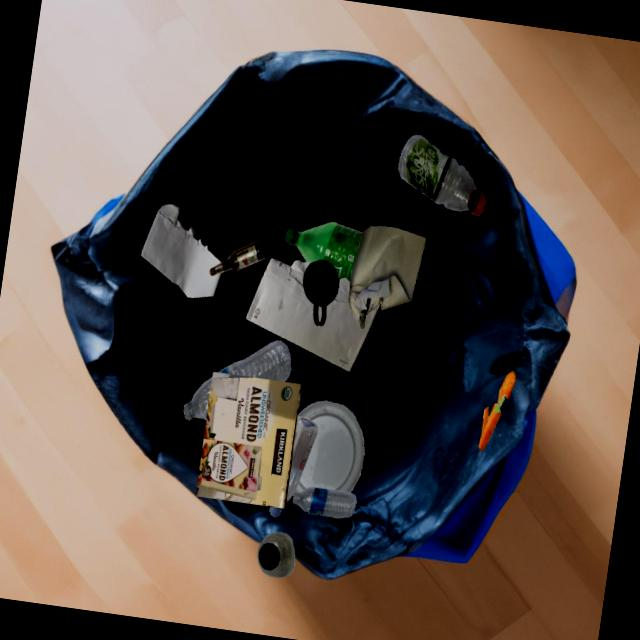biowaste: (478, 371, 516, 452)
cardboard: (195, 372, 301, 509)
glass: (209, 239, 266, 276)
paper: (245, 258, 380, 372), (348, 226, 426, 329), (141, 204, 222, 298)
plastic: (398, 135, 486, 216), (292, 401, 364, 497), (284, 222, 362, 281), (218, 341, 291, 382), (286, 416, 318, 503), (303, 260, 339, 327), (293, 487, 357, 518), (257, 532, 295, 578), (184, 376, 212, 420)
